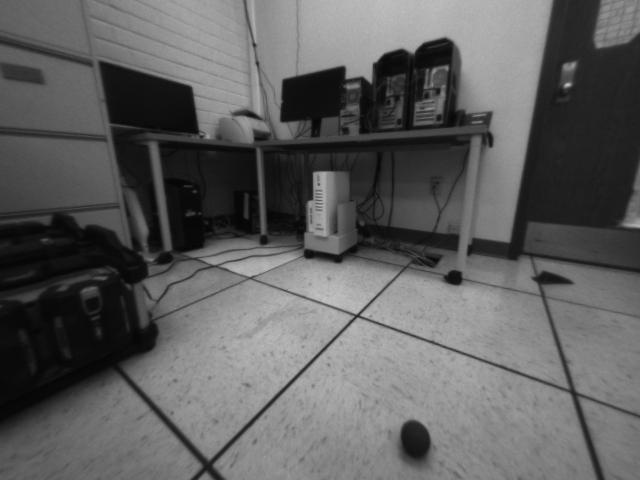dogtoy: (389, 407, 444, 468)
